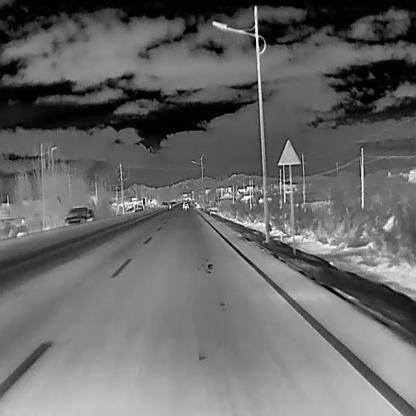car: (63, 206, 96, 227), (182, 201, 188, 209), (162, 201, 165, 207), (165, 201, 167, 207)
